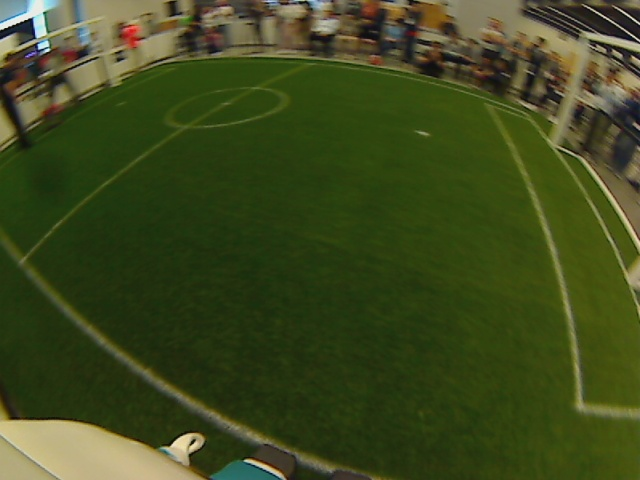goalpost: (547, 23, 640, 288), (1, 15, 123, 87)
